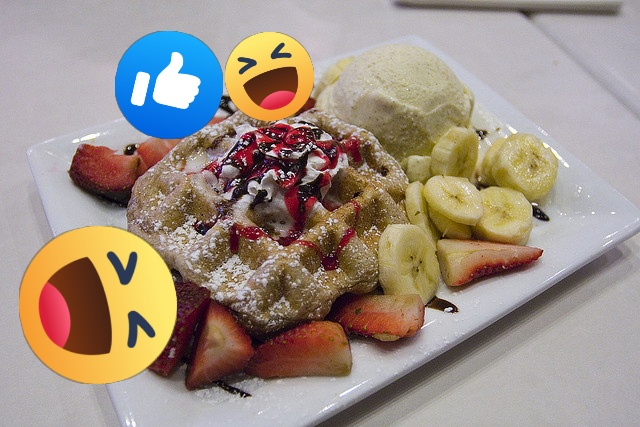haha: (19, 226, 177, 384), (225, 32, 314, 121)
like: (115, 31, 223, 139)
